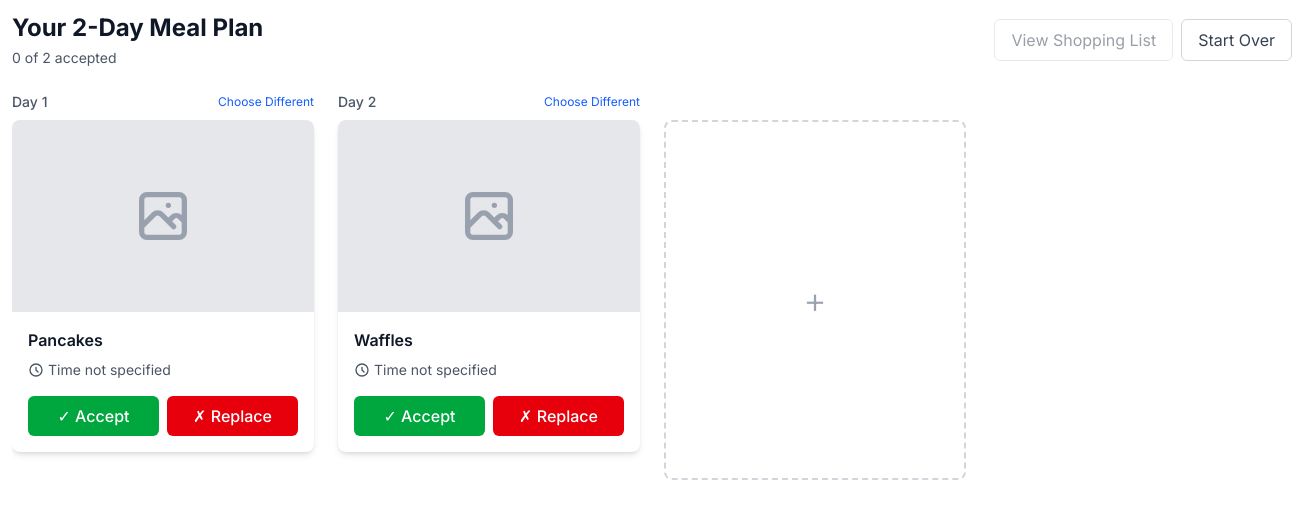
Test: MealPlanView acceptance state › a plain reject that exhausts the pool removes the slot and shows the aggregate banner
The image size is (1304, 521).
Click the button "✗ Replace" below "Pancakes" at (232, 416), box left=167, top=396, right=298, bottom=436
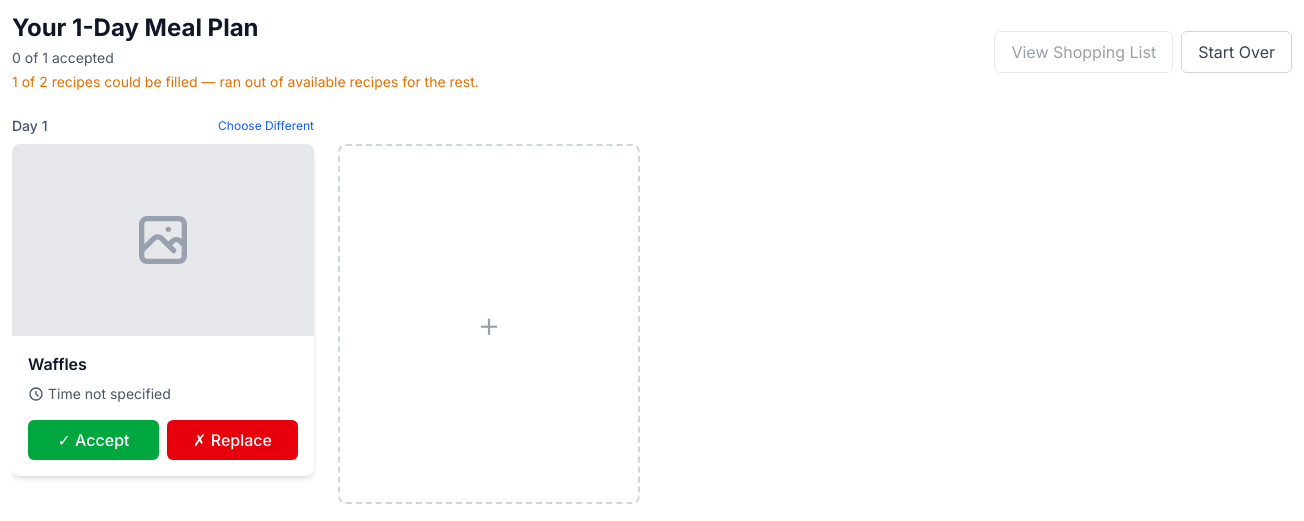
Now the heading "Pancakes" is gone
Now the text "1 of 2 recipes could be filled — ran out of available recipes for the rest." is shown, box left=12, top=72, right=479, bottom=92
Now the text "0 of 1 accepted" is shown, box left=12, top=49, right=114, bottom=66
